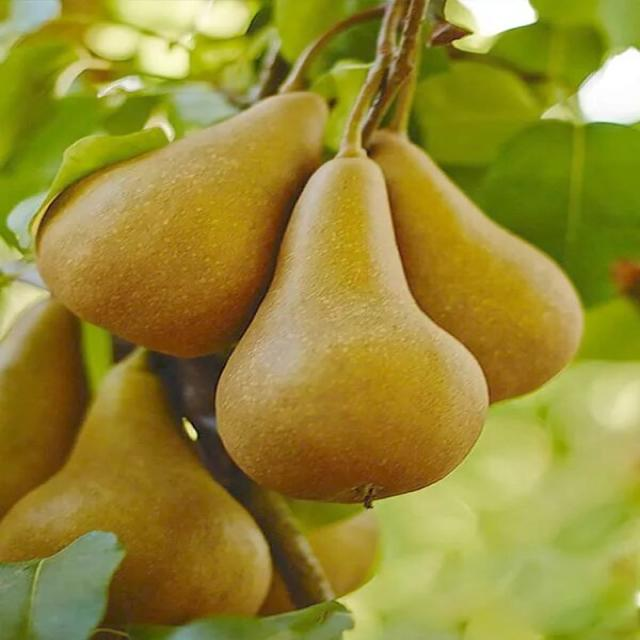pear: (3, 87, 587, 626), (212, 147, 492, 505)
